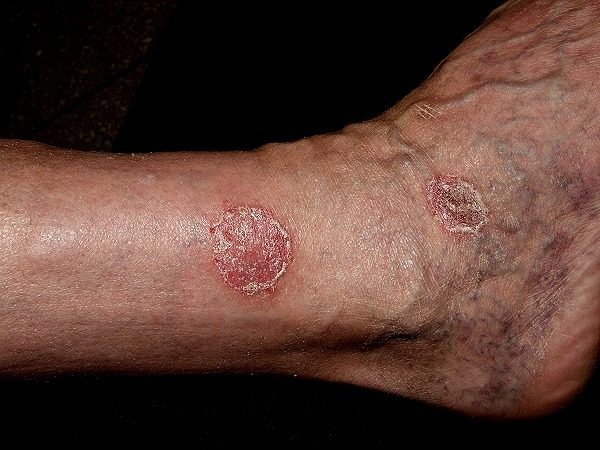Psoriasis: (201, 202, 311, 301), (423, 166, 488, 234)
